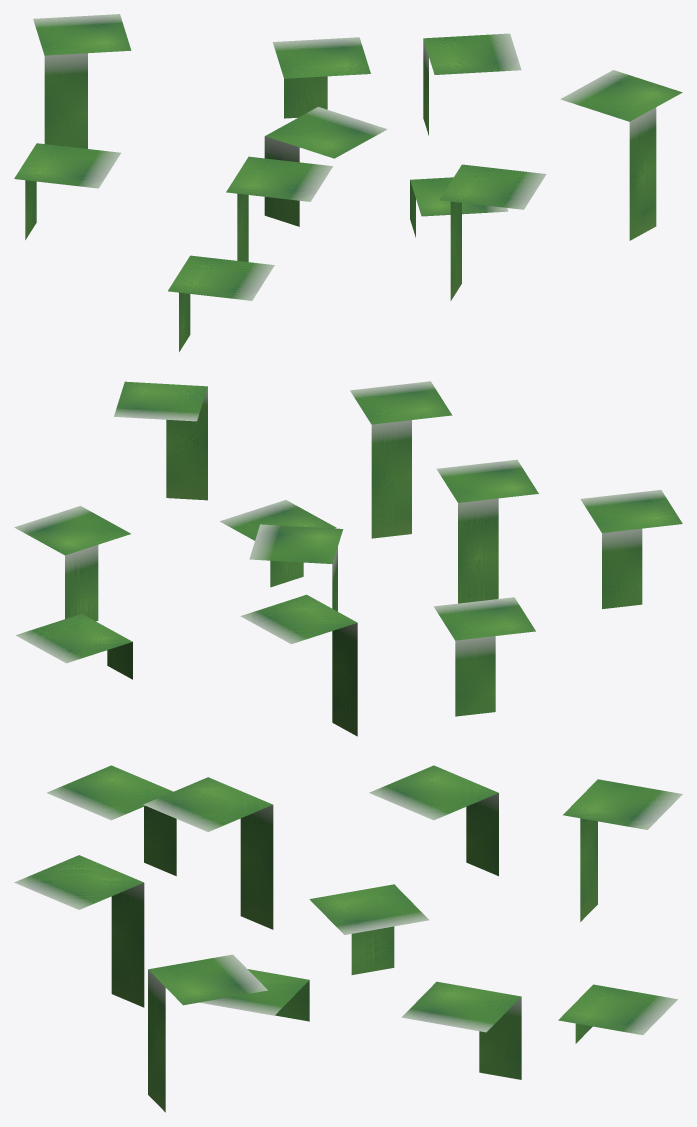
The model's file is tipamox.fbx.
3 views of the same model, one above another, from view 1: azimuth 30°, elevation 25°; view 2: azimuth 150°, elevation 25°; view 3: azimuth 270°, elevation 25° (orthographic). The views are drawn at different scales.
Parts seen in each view (by area): view 1: cube_6, cube_8, cube_5, cube_1, cube_7, cube_9, cube_11, cube_13, cube_15, cube_3, cube_17, cube_19 (+6 smaller); view 2: cube_10, cube_2, cube_8, cube_14, cube_16, cube_3, cube_5, cube_9, cube_13, cube_7, cube_11, cube_15 (+7 smaller); view 3: cube_2, cube_10, cube_15, cube_3, cube_5, cube_11, cube_1, cube_9, cube_13, cube_7, cube_17, cube_12 (+7 smaller).
Part boxes in pixels (<box>): cube_6: <box>44,53,87,148</box>; cube_8: <box>629,107,656,240</box>; cube_5: <box>272,37,370,78</box>; cube_1: <box>265,107,387,158</box>; cube_7: <box>33,14,131,55</box>; cube_9: <box>560,70,682,121</box>; cube_11: <box>439,164,546,209</box>; cube_13: <box>423,33,521,74</box>; cube_15: <box>14,143,120,188</box>; cube_3: <box>226,156,332,201</box>; cube_17: <box>168,255,274,300</box>; cube_19: <box>410,177,508,216</box>; cube_10: <box>371,420,411,538</box>; cube_2: <box>458,498,498,603</box>; cube_8: <box>166,387,207,500</box>; cube_14: <box>455,636,495,716</box>; cube_16: <box>602,528,642,608</box>; cube_3: <box>436,459,538,502</box>; cube_5: <box>15,614,132,663</box>; cube_9: <box>114,381,207,421</box>; cube_13: <box>14,506,130,555</box>; cube_7: <box>240,594,357,644</box>; cube_11: <box>350,381,452,424</box>; cube_15: <box>433,597,535,640</box>; cube_2: <box>240,805,273,929</box>; cube_10: <box>111,883,144,1007</box>; cube_15: <box>369,765,498,820</box>; cube_3: <box>143,777,272,831</box>; cube_5: <box>558,984,677,1035</box>; cube_11: <box>14,855,143,909</box>; cube_1: <box>309,884,429,934</box>; cube_9: <box>148,954,267,1005</box>; cube_13: <box>401,981,521,1032</box>; cube_7: <box>563,779,682,829</box>; cube_17: <box>46,765,173,820</box>; cube_12: <box>479,997,521,1079</box>.
Size of the model in its own units: 90.44 by 18.75 by 90.75.
